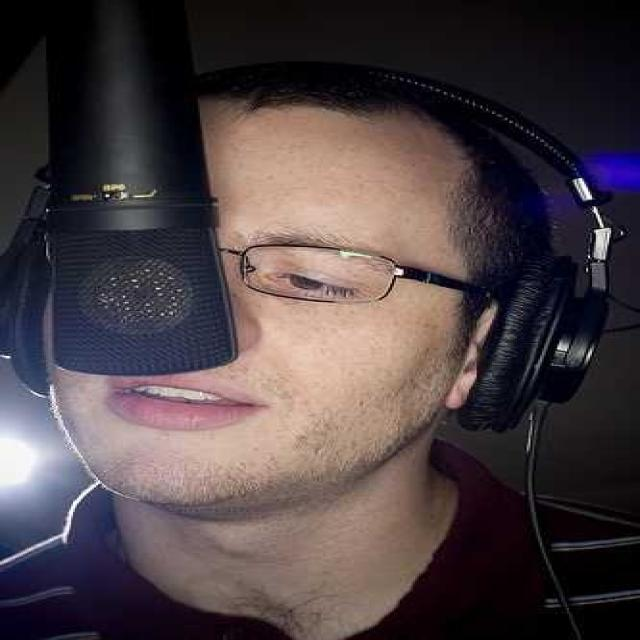microphone: (34, 6, 230, 379)
